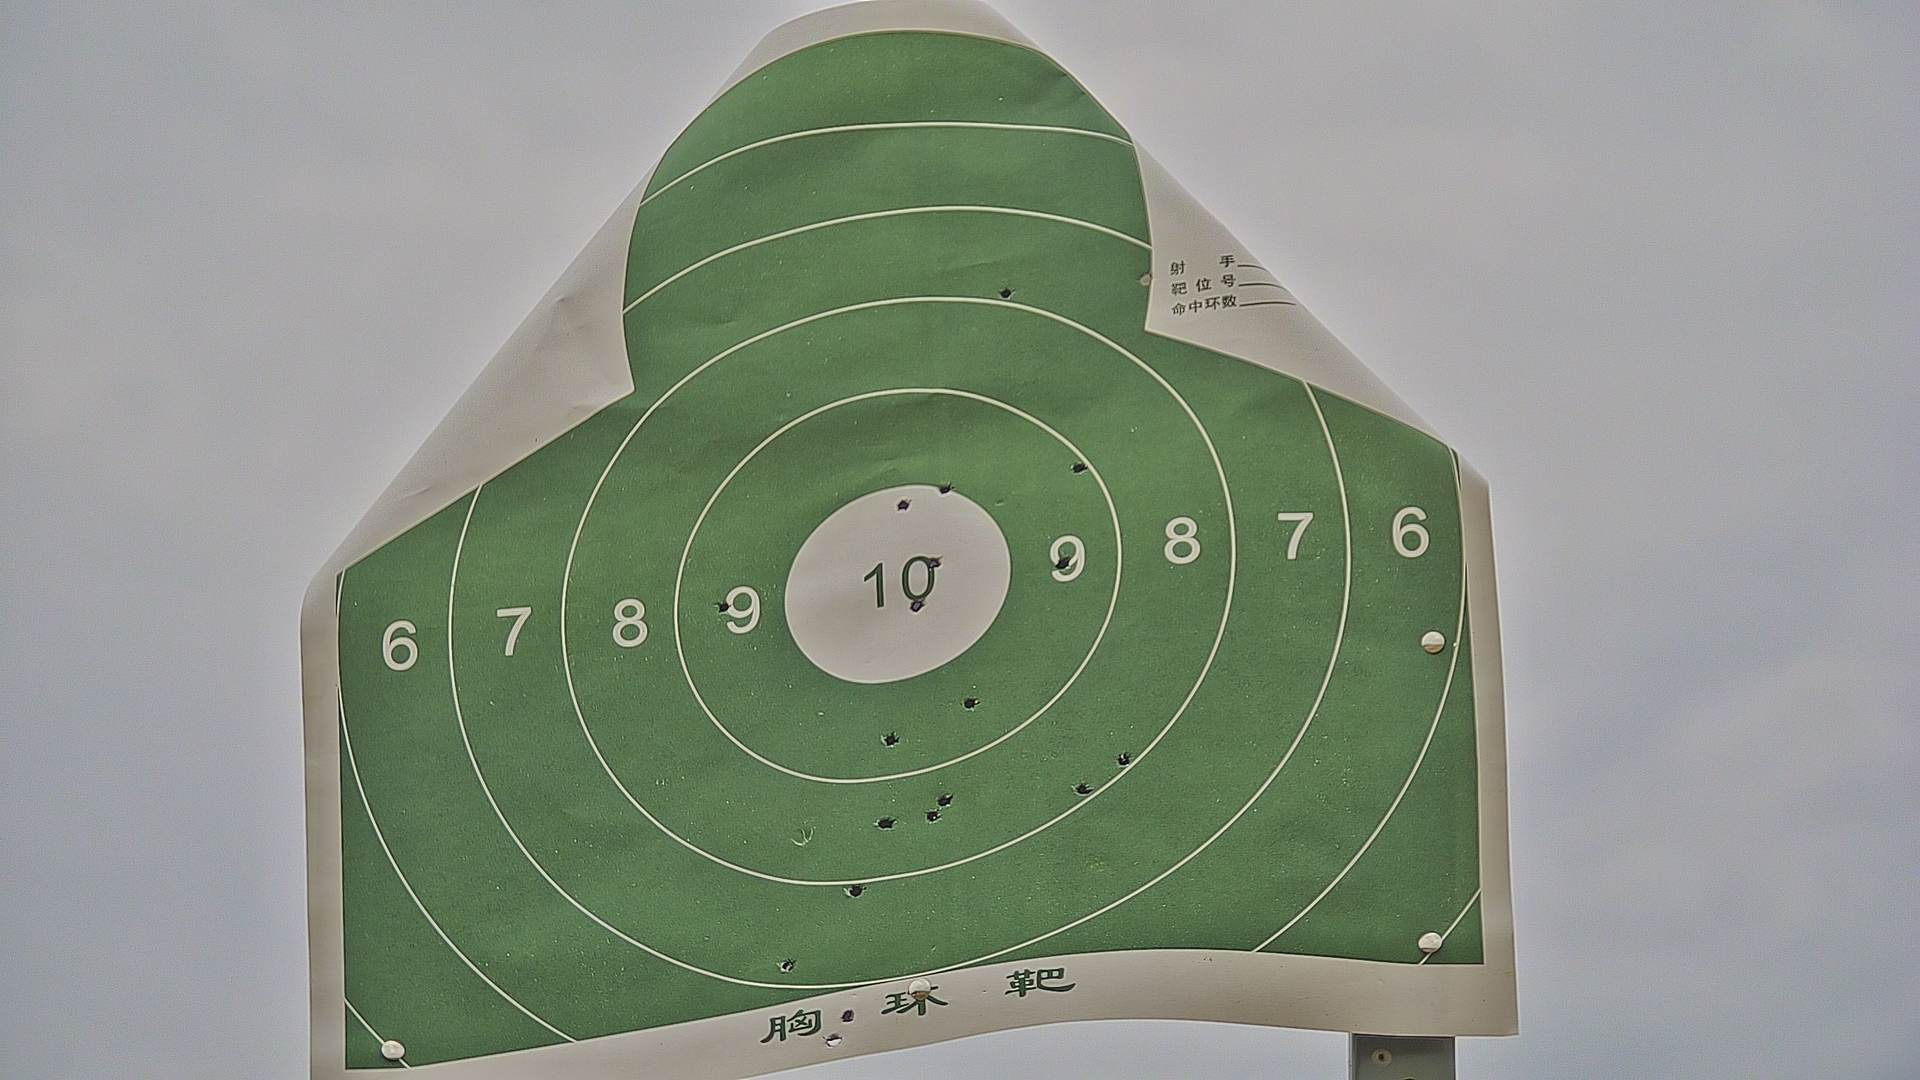hole: (1069, 775, 1098, 802), (996, 281, 1017, 307), (957, 692, 984, 713), (836, 1004, 862, 1025), (767, 957, 804, 972), (1113, 746, 1134, 771), (873, 814, 901, 832), (926, 553, 949, 574), (880, 728, 901, 752), (820, 1035, 852, 1051), (936, 477, 957, 498), (843, 881, 868, 898), (1067, 458, 1091, 475), (935, 789, 959, 806), (891, 496, 914, 513), (920, 807, 943, 824), (909, 593, 926, 615), (713, 595, 729, 617), (1055, 553, 1073, 570), (1138, 270, 1153, 286)
kernel: (887, 580, 894, 585)
target: (334, 30, 1494, 1065)
ten: (782, 477, 1015, 691)
